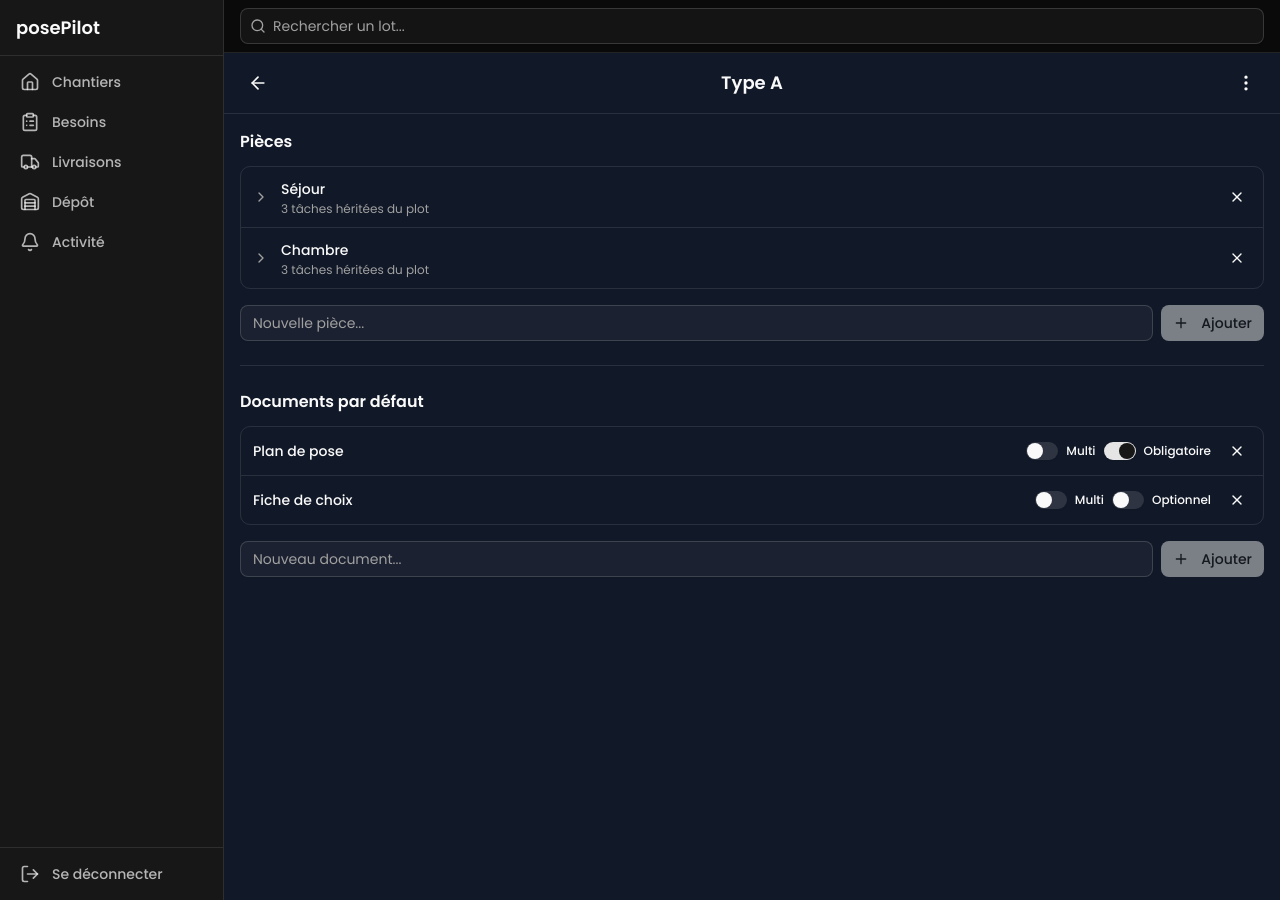
it: VarianteDetailPage — expand piece tasks › expands piece to show inherited tasks on click
Expected: the text "Séjour" is shown, [281,179,325,199]
Click the button named "Déplier Séjour": (261, 197) [253,189,269,205]
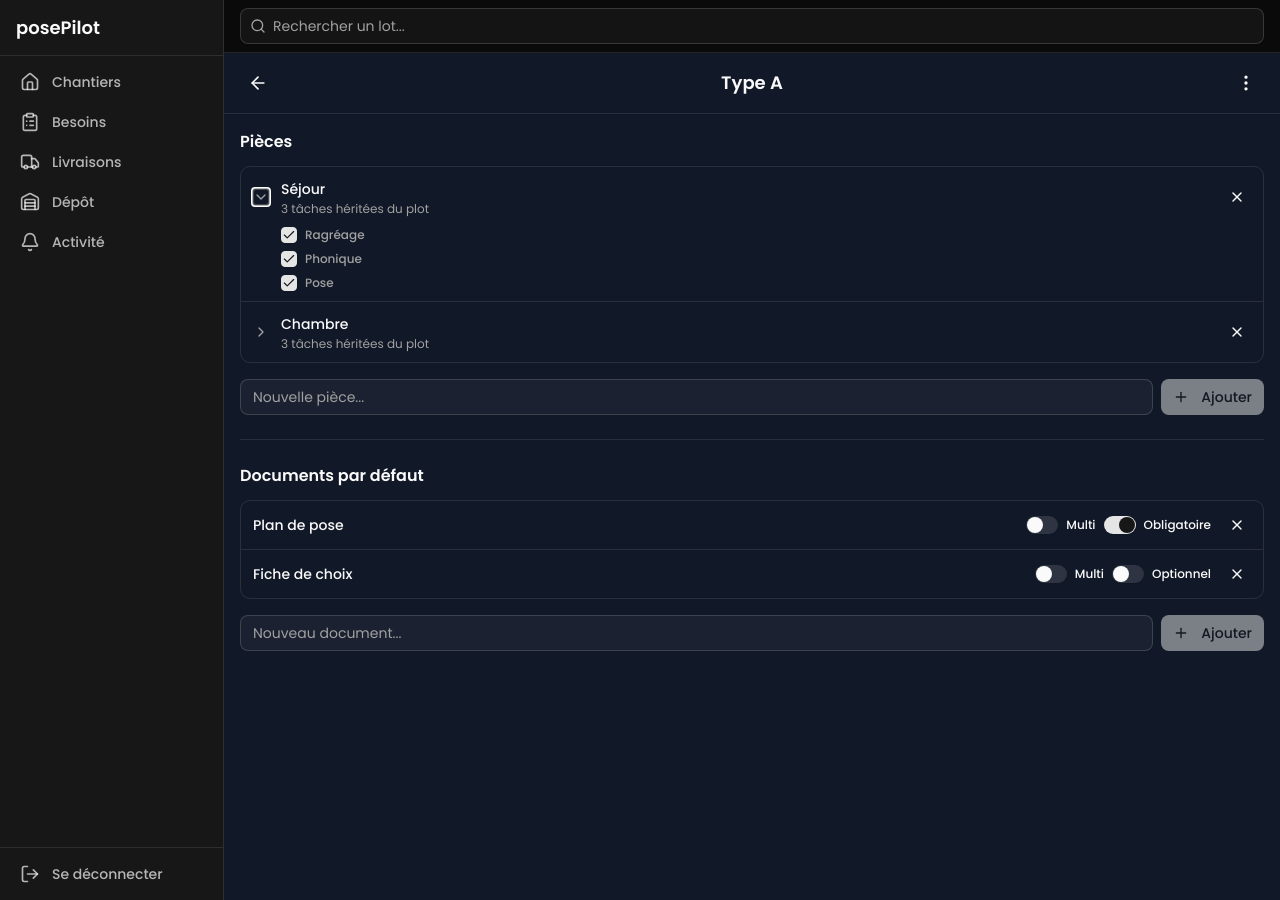
Expected: the text "Ragréage" is shown, [305,227,364,243]
Expected: the text "Phonique" is shown, [305,251,362,267]
Expected: the text "Pose" is shown, [305,275,334,291]
